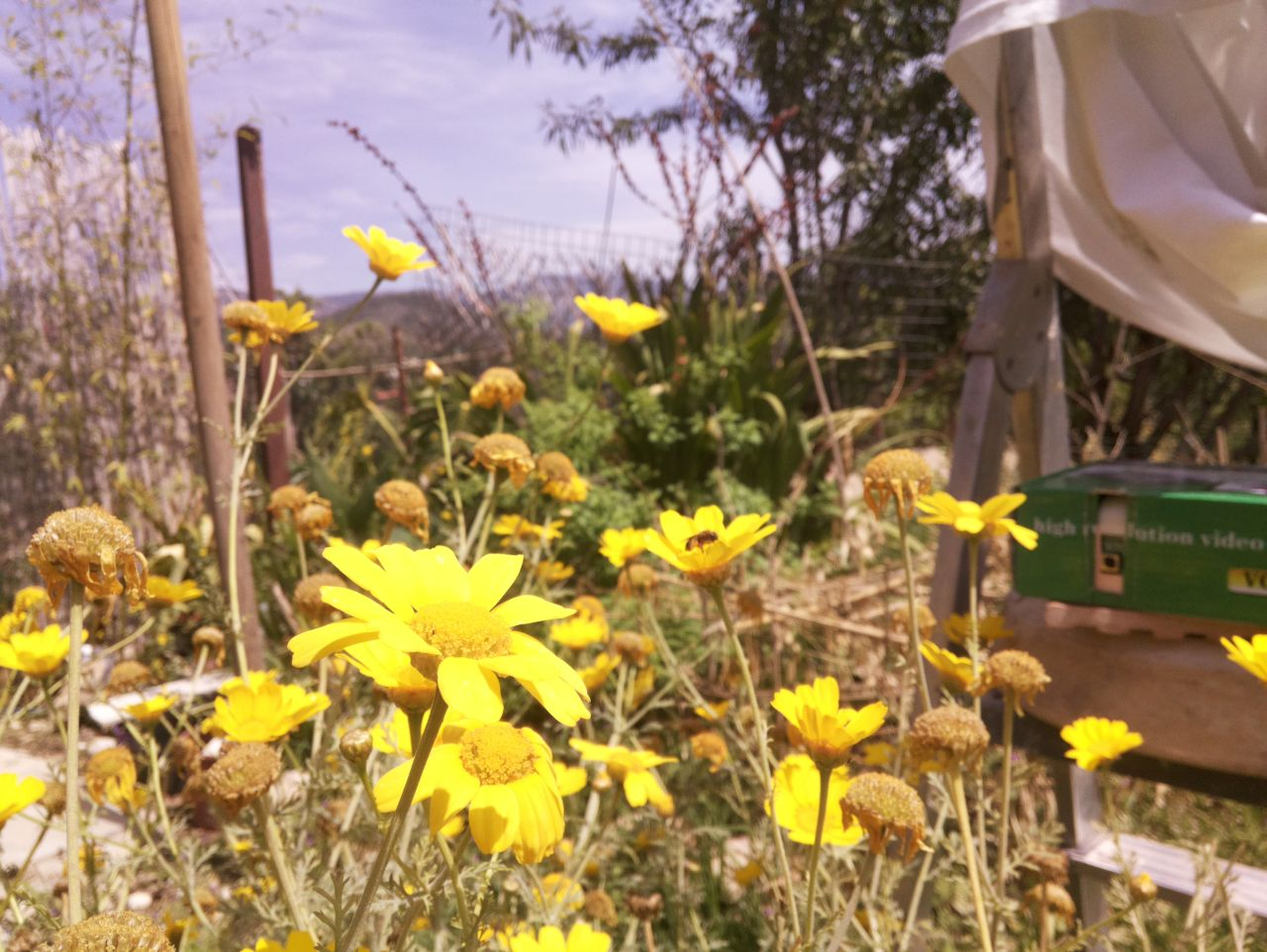bee: (674, 523, 723, 559)
